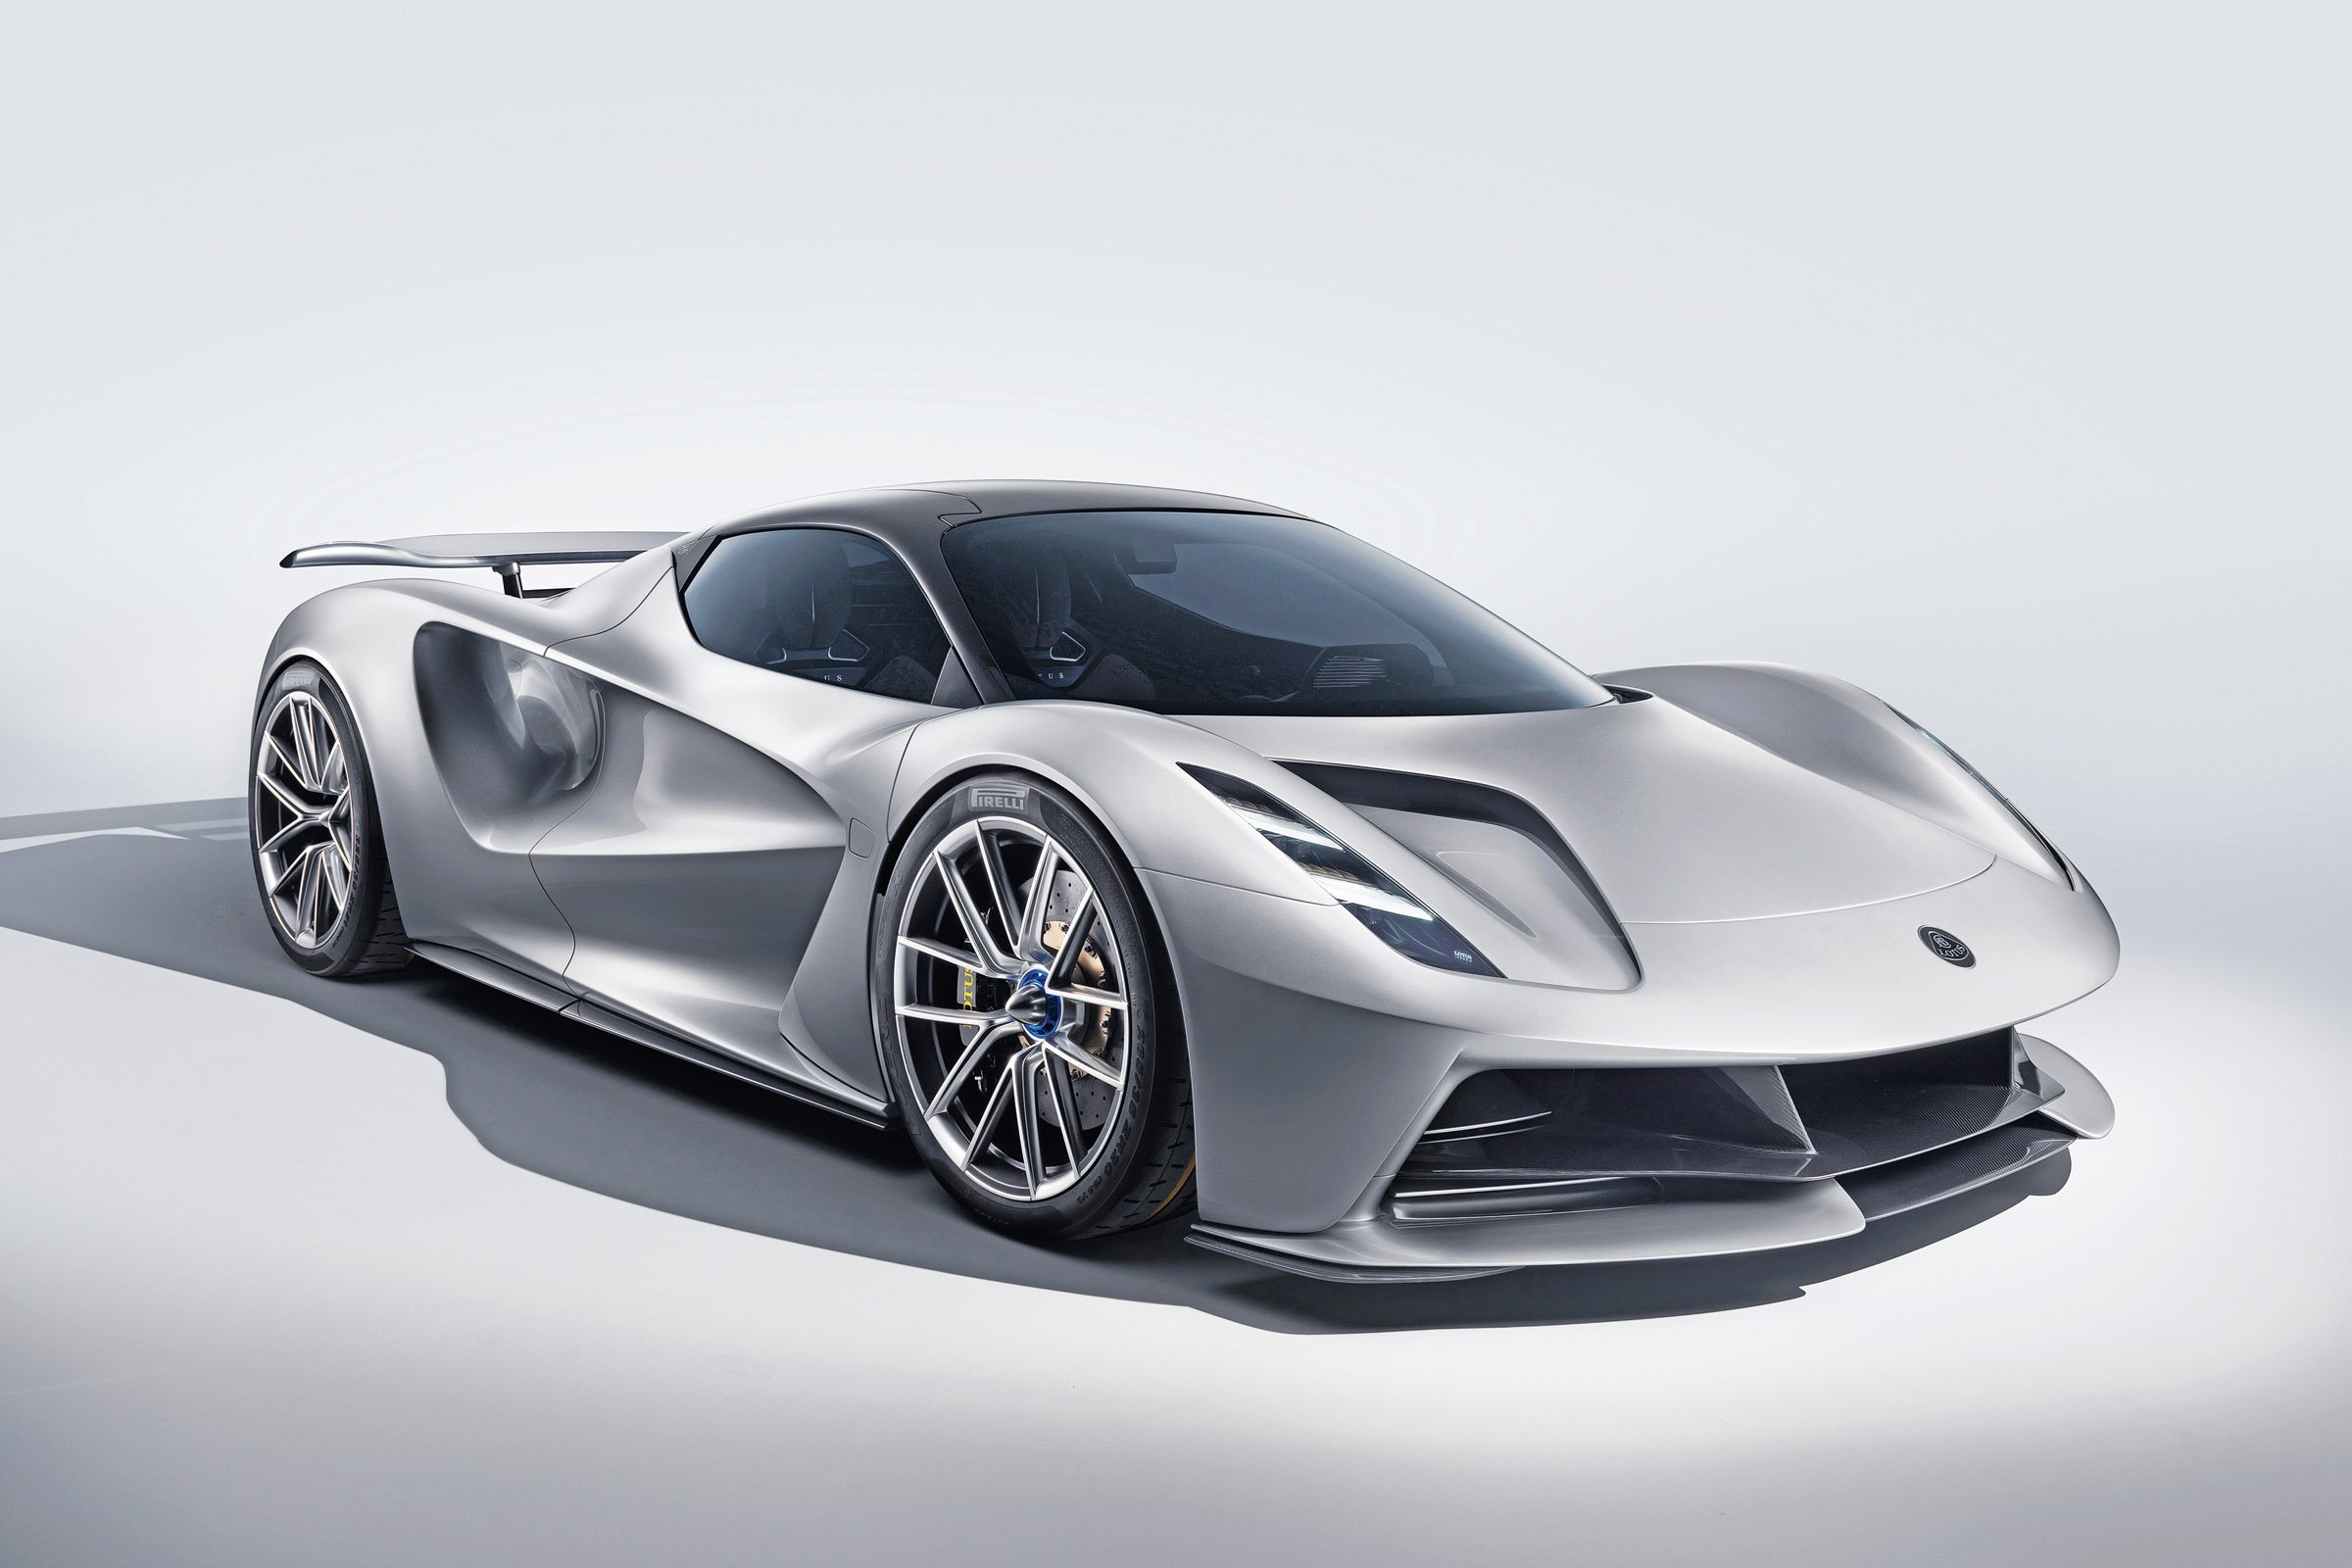headlight: (1319, 884, 1507, 989)
wheel: (847, 761, 1197, 1258), (226, 635, 394, 985)
